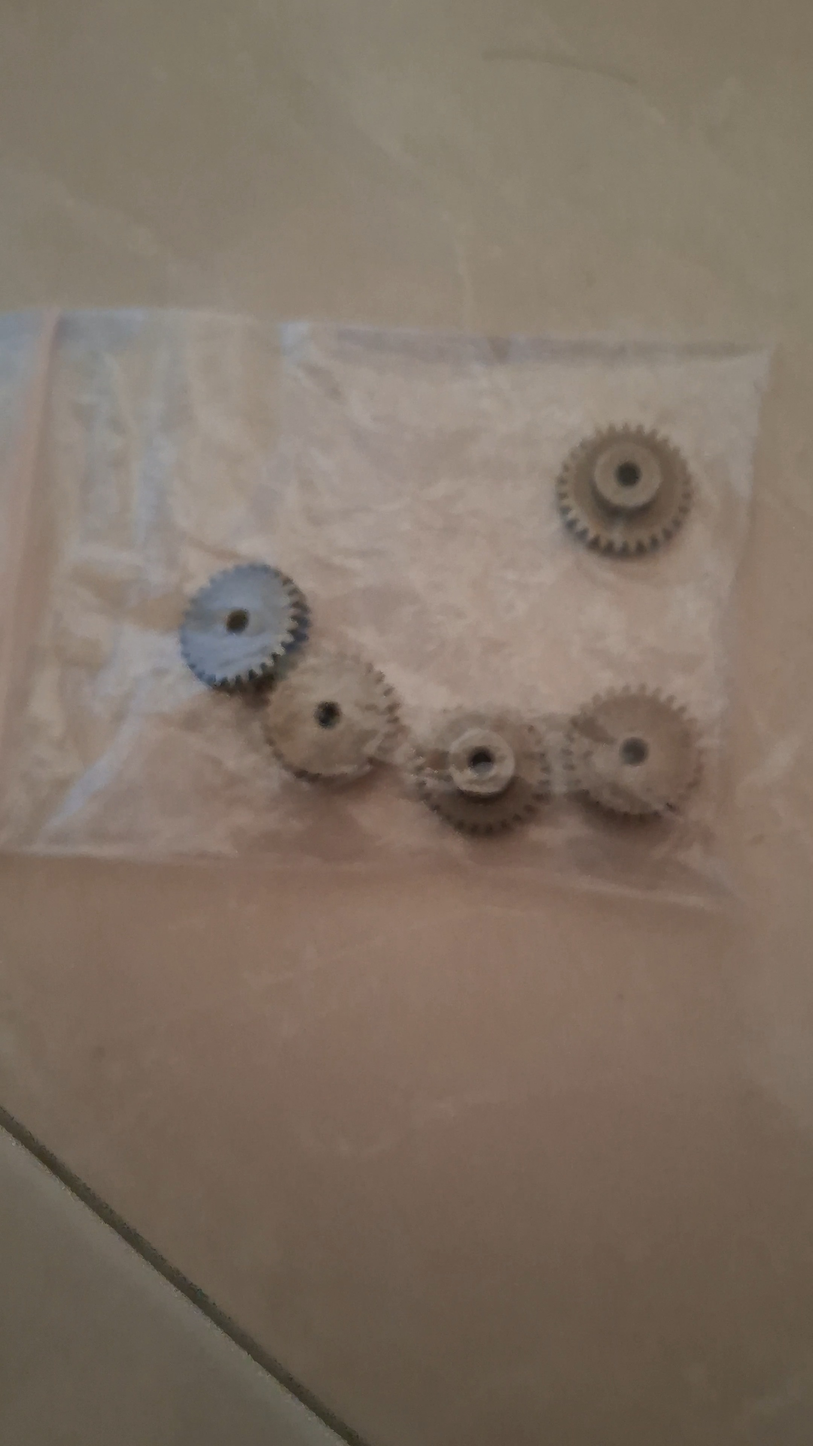spur gear: (263, 652, 397, 781), (565, 688, 700, 816), (557, 427, 691, 555), (412, 712, 550, 834), (180, 564, 308, 689)
